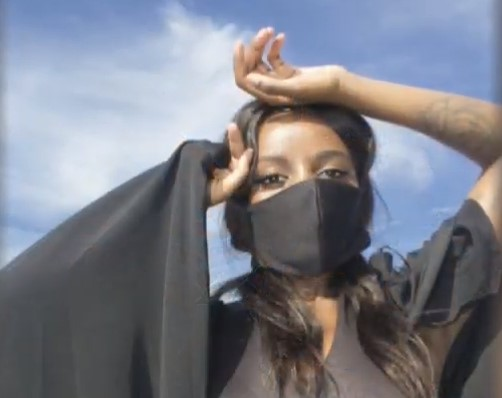face_with_mask: (233, 98, 374, 281)
